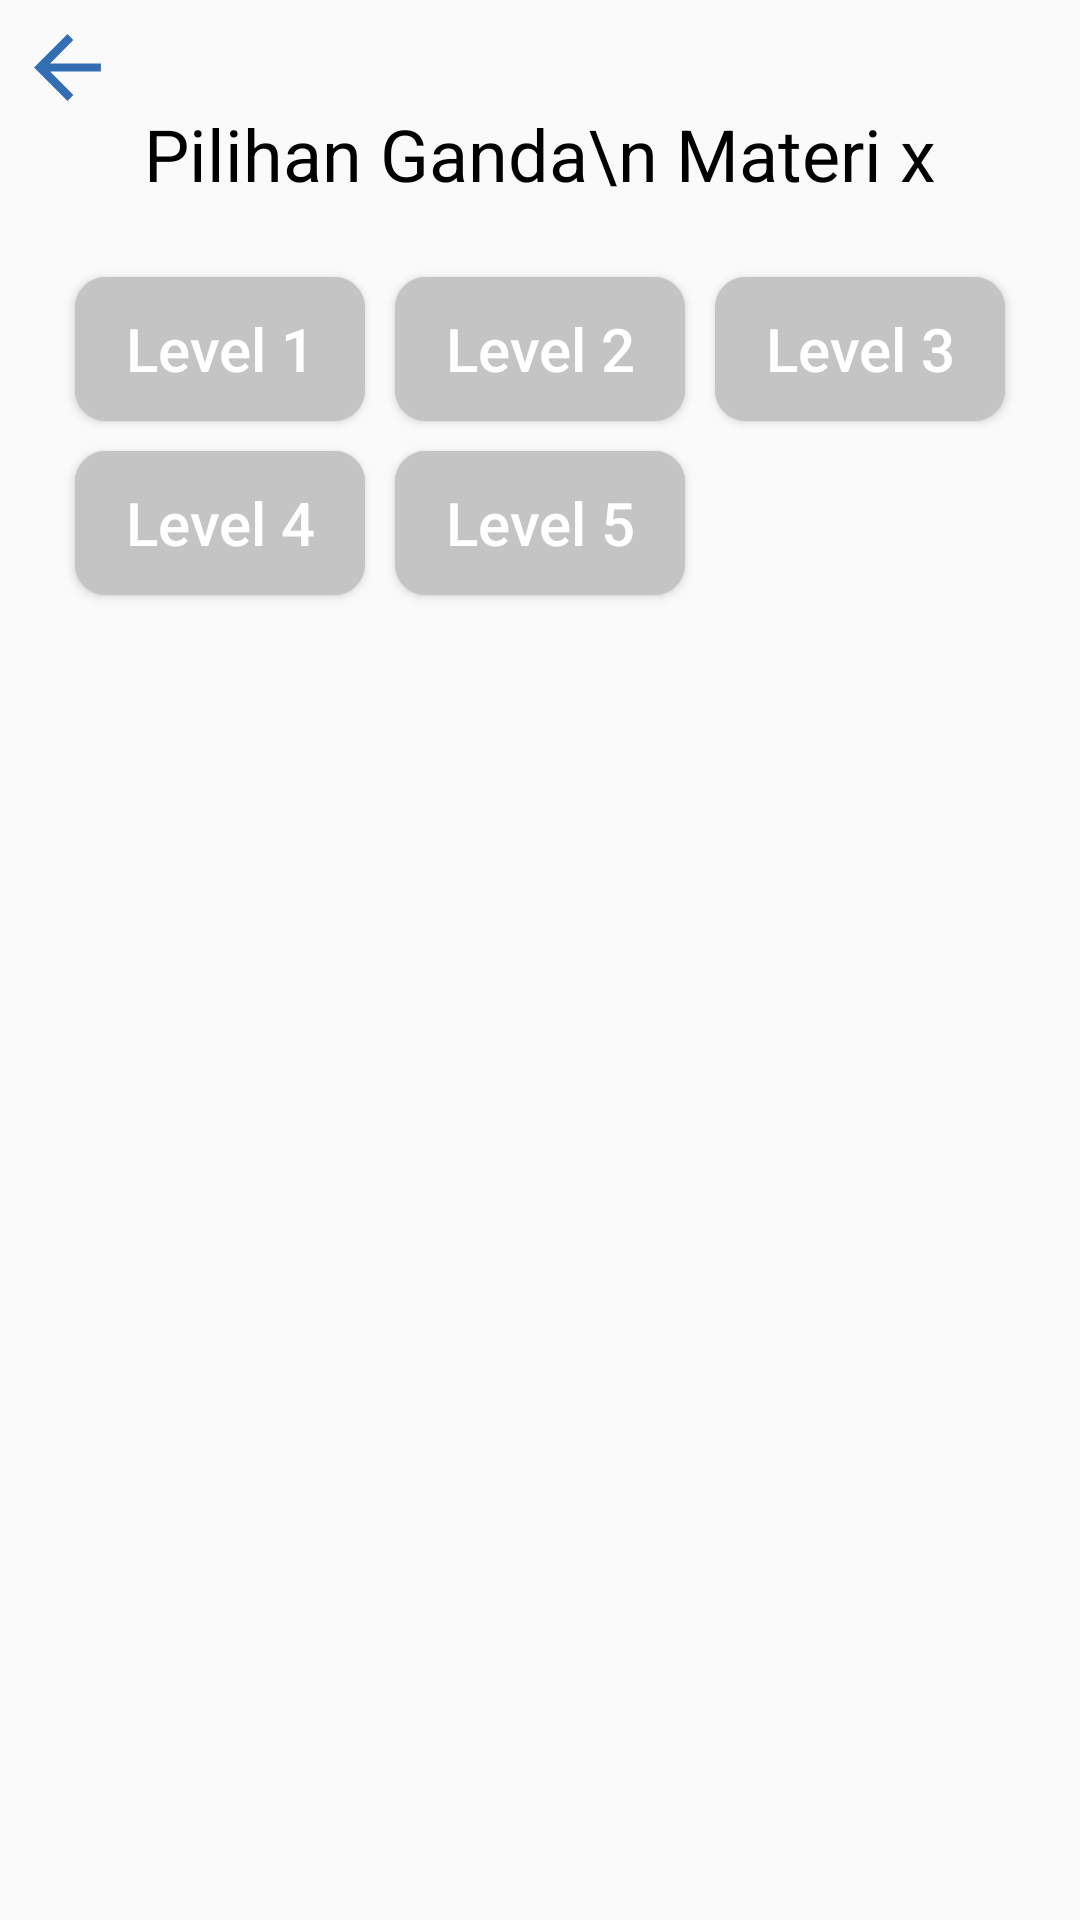

Named icons in this screenshot (1080x1920) and their centers, [x,y]:
arrow back: [67,67]
